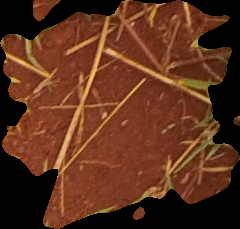soil: (2, 1, 237, 224)
